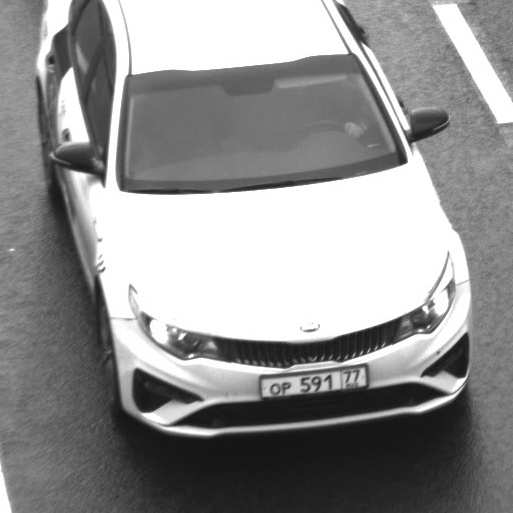plate: (249, 354, 378, 406)
